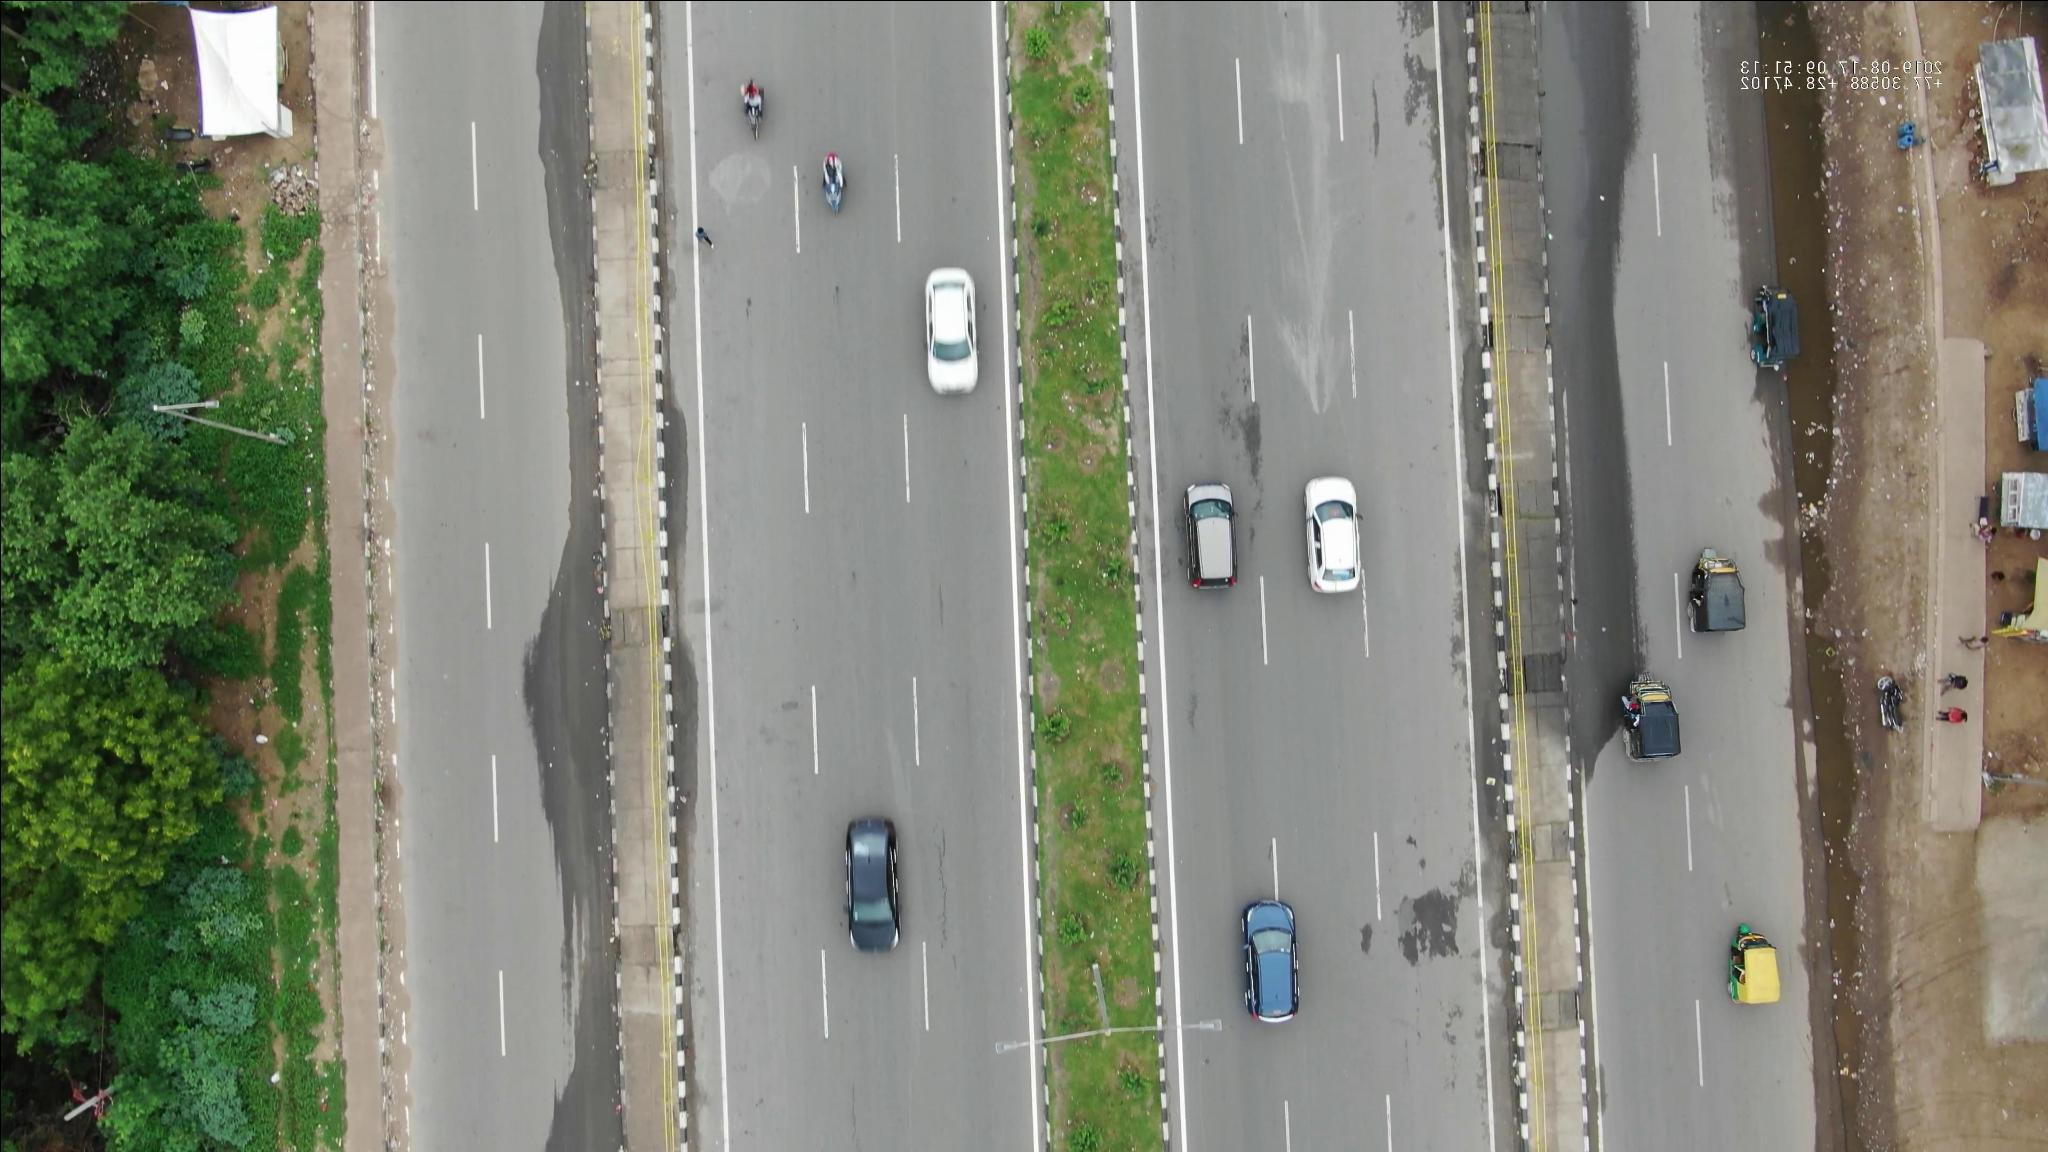Cracks: (1362, 24, 1442, 173), (926, 820, 971, 985), (1225, 319, 1267, 474)
Potholes: (1352, 871, 1476, 996)
Waterlogging: (1782, 671, 1879, 917), (1760, 15, 1829, 286), (1786, 322, 1848, 588)
